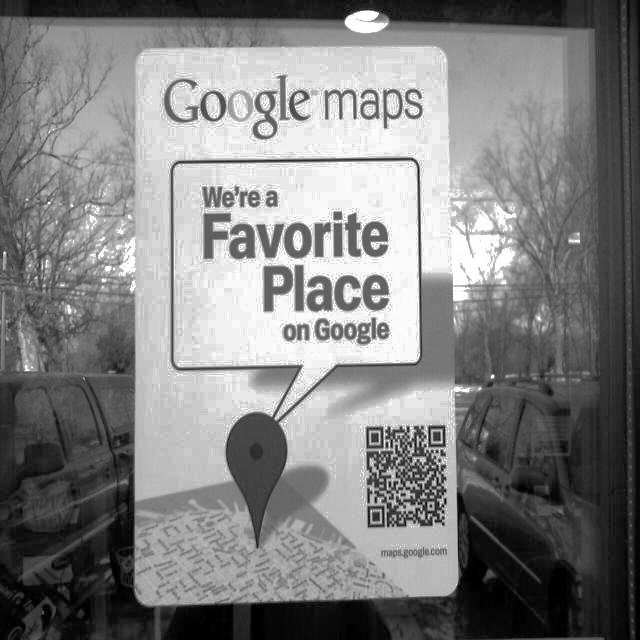qr_code: (367, 426, 447, 527)
